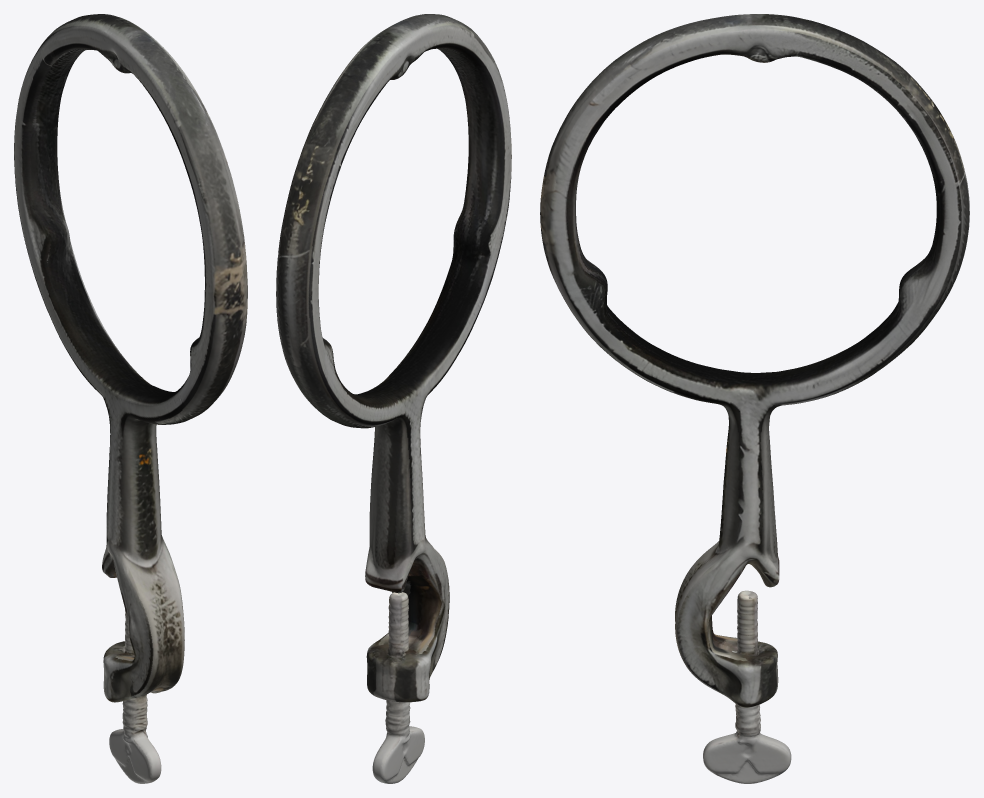
File: anillo_de_hierro (1).glb
3 views of the same model, side by side, from view 1: azimuth 30°, elevation 25°; view 2: azimuth 150°, elevation 25°; view 3: azimuth 270°, elevation 25° (orthographic). The views are drawn at different scales.
Visible parts, largest first — view 1: tripo_node_22cc8f44-5f3a-4e5a-a6cd-23a6c04aa4ee_0; view 2: tripo_node_22cc8f44-5f3a-4e5a-a6cd-23a6c04aa4ee_0; view 3: tripo_node_22cc8f44-5f3a-4e5a-a6cd-23a6c04aa4ee_0.
Part boxes in pixels (left/top/right/bottom): tripo_node_22cc8f44-5f3a-4e5a-a6cd-23a6c04aa4ee_0: left=14, top=14, right=247, bottom=783; tripo_node_22cc8f44-5f3a-4e5a-a6cd-23a6c04aa4ee_0: left=276, top=14, right=511, bottom=783; tripo_node_22cc8f44-5f3a-4e5a-a6cd-23a6c04aa4ee_0: left=540, top=14, right=969, bottom=783.
Size of the model in its own units: 0.0837 by 1 by 0.5076.
Materials: 1 (1 with a texture image).
